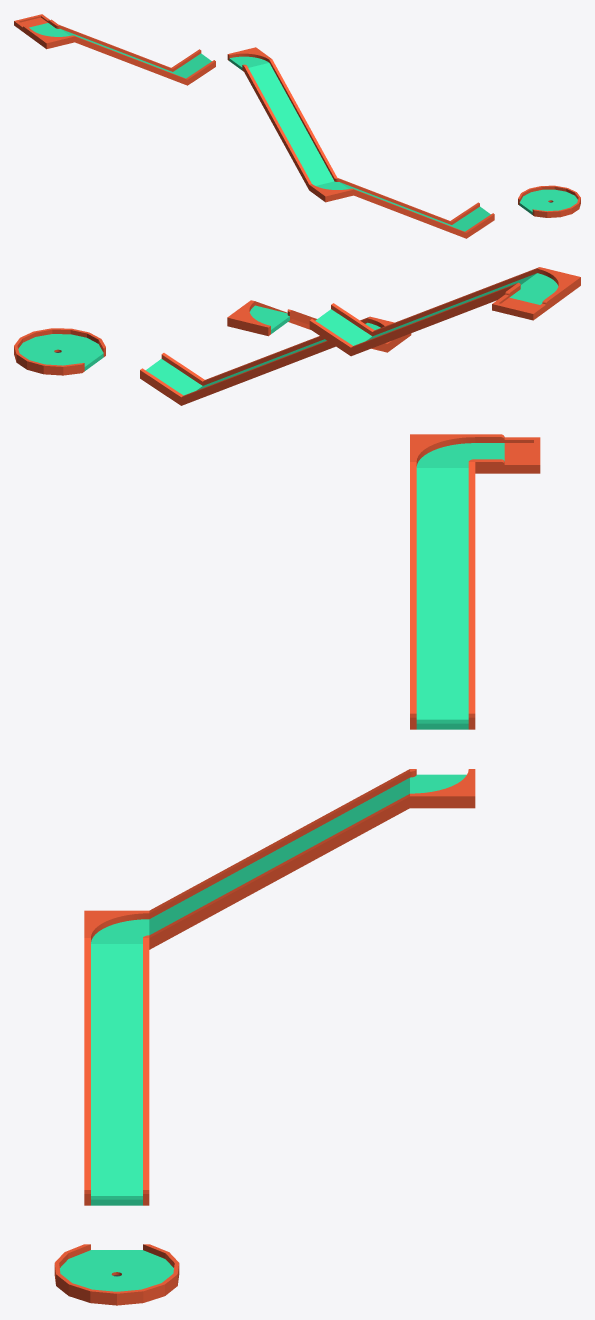
The model's file is PH_Lombard.obj.
3 renders of one model, top to bottom at view 1: azimuth 30°, elevation 25°; view 2: azimuth 150°, elevation 25°; view 3: azimuth 270°, elevation 25°, orthographic. The views are drawn at different scales.
Bounding box in the file's own units: 16.2 × 7.4 × 7.46.
